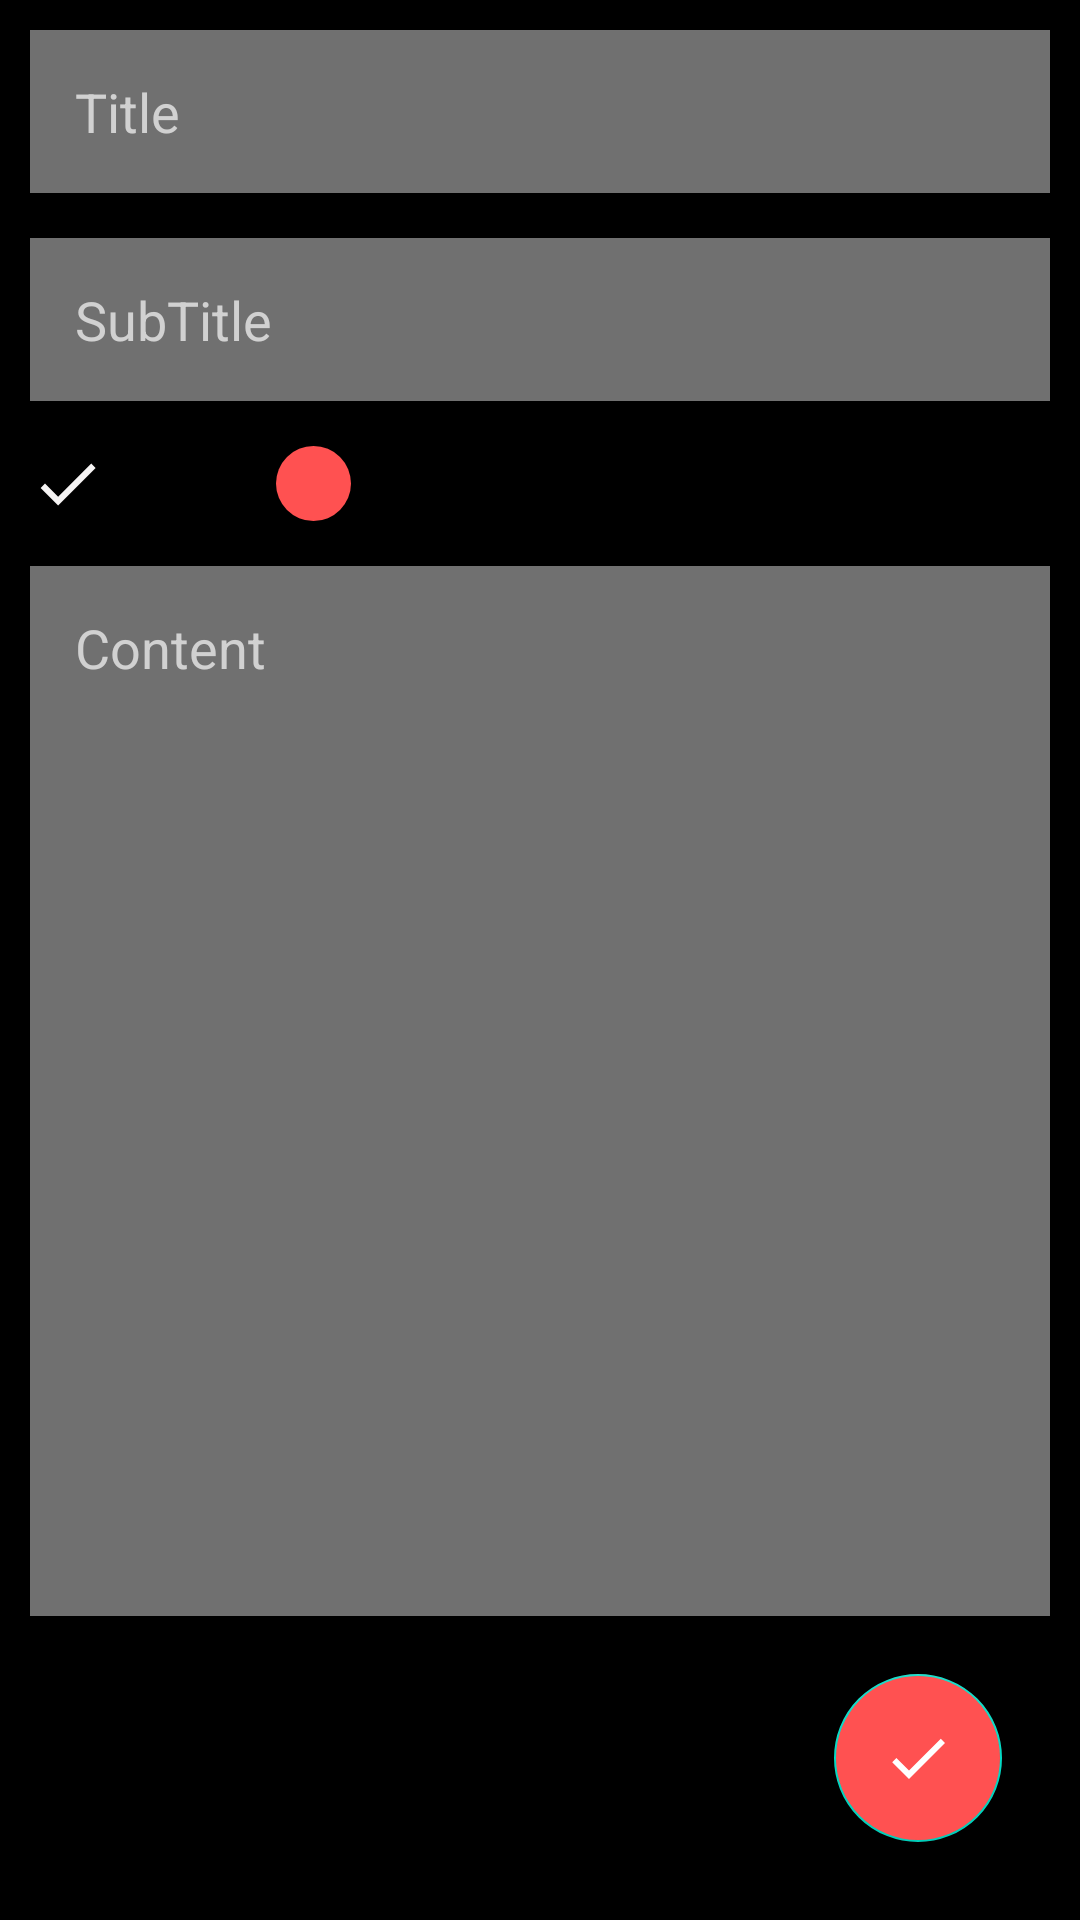

Screen size 1080*1920. Icon name, then its center in pixels as (x,y):
done: (68,484), (918,1758)
